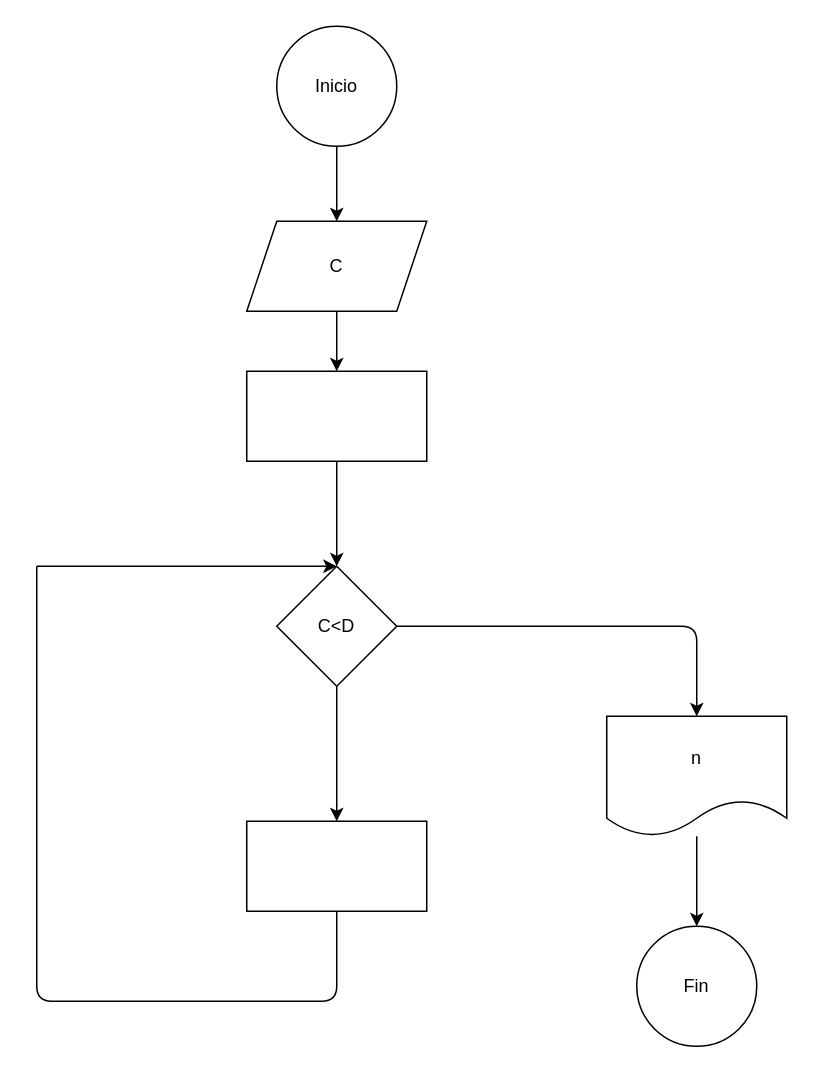
This 813x1073 diagram has some shape labels left out. Each missing label, with the box of its shape:
C=C+0.05*C t=t+1: (245, 820, 427, 911)
t=0 D=2*C: (245, 370, 427, 461)
